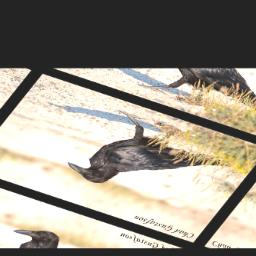Crow: (60, 106, 249, 217)
